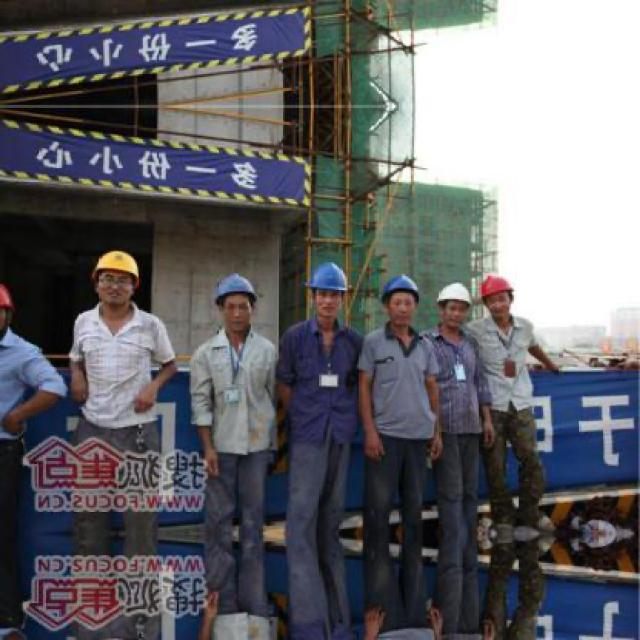con casco: (74, 232, 172, 319), (193, 257, 280, 342), (291, 246, 370, 328), (386, 255, 437, 335), (481, 268, 526, 334), (431, 280, 482, 328)
